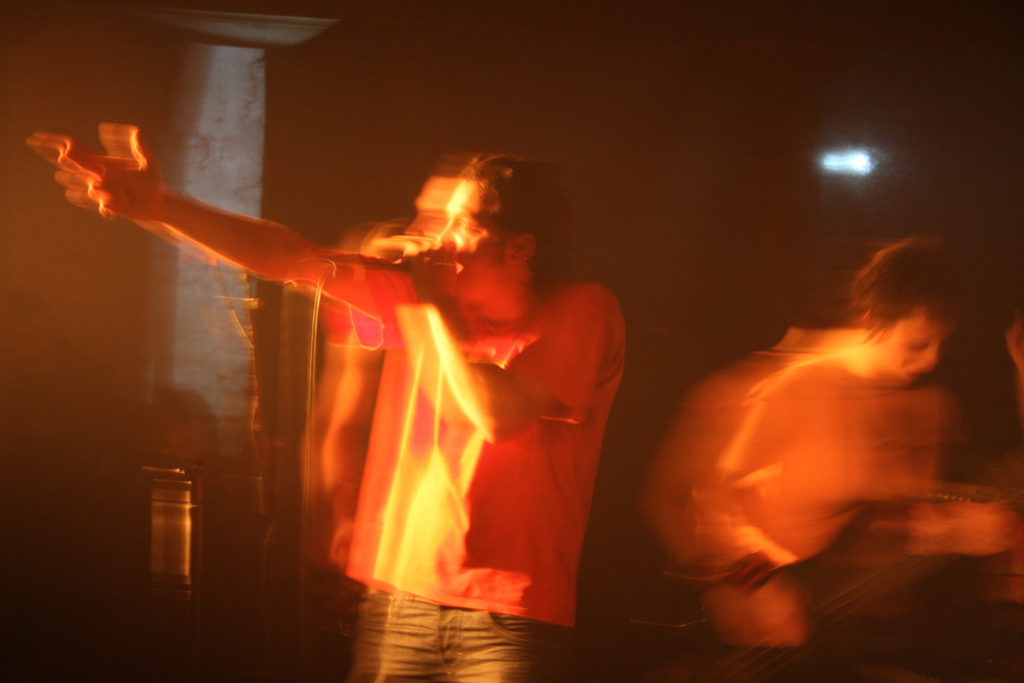Person: (713, 233, 1012, 648), (322, 149, 485, 569)
